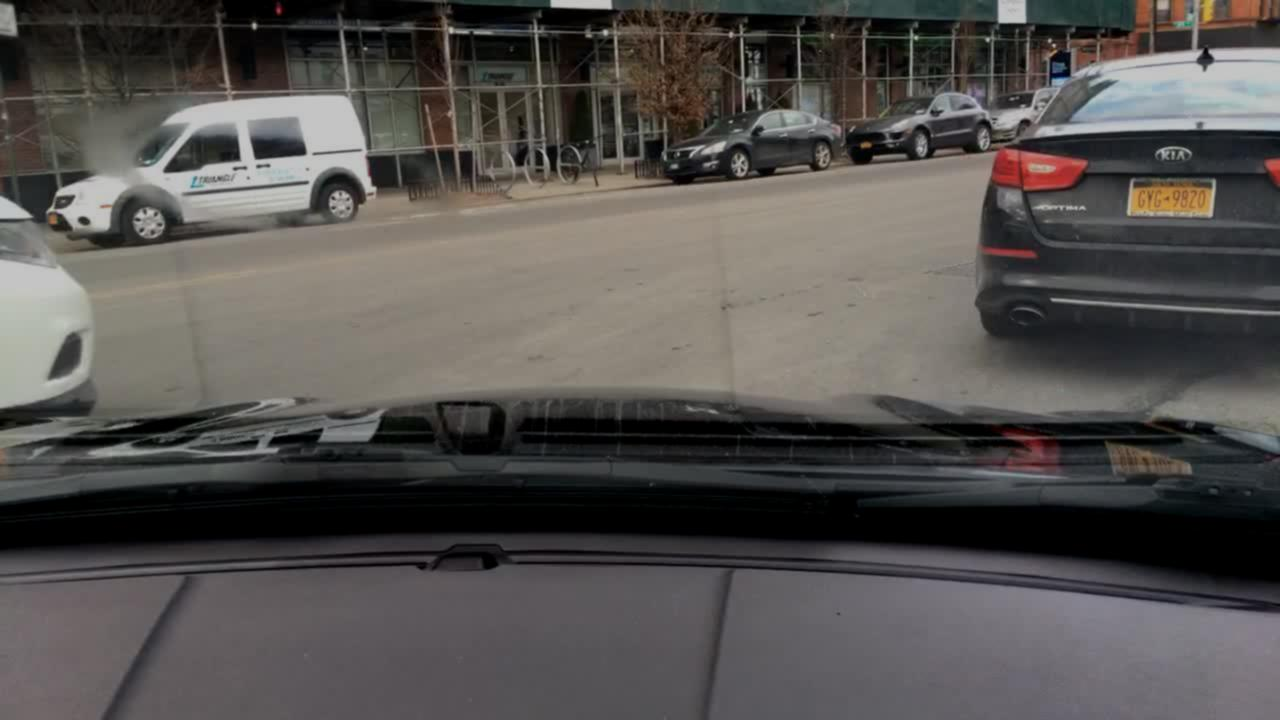kia: (1148, 143, 1203, 169)
